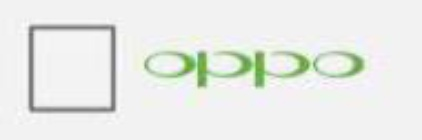CheckBox: (1, 1, 421, 139)
